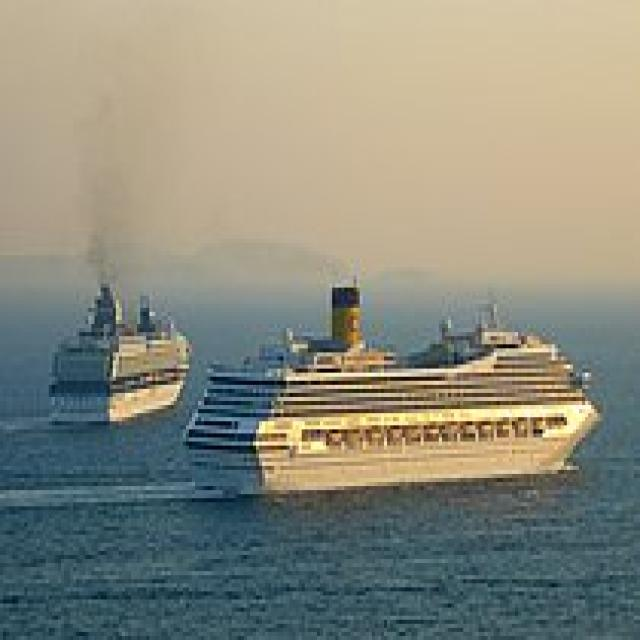Cruise: (174, 272, 597, 494), (43, 272, 189, 429)
